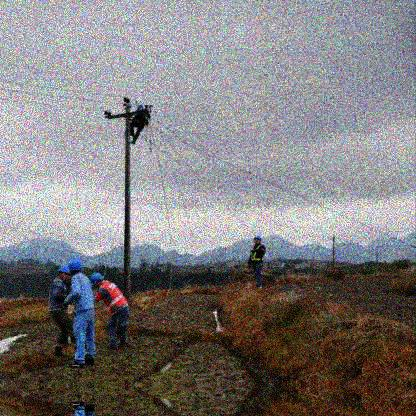helmet: (68, 257, 84, 276), (88, 271, 105, 288), (57, 264, 67, 283), (253, 233, 263, 245)
